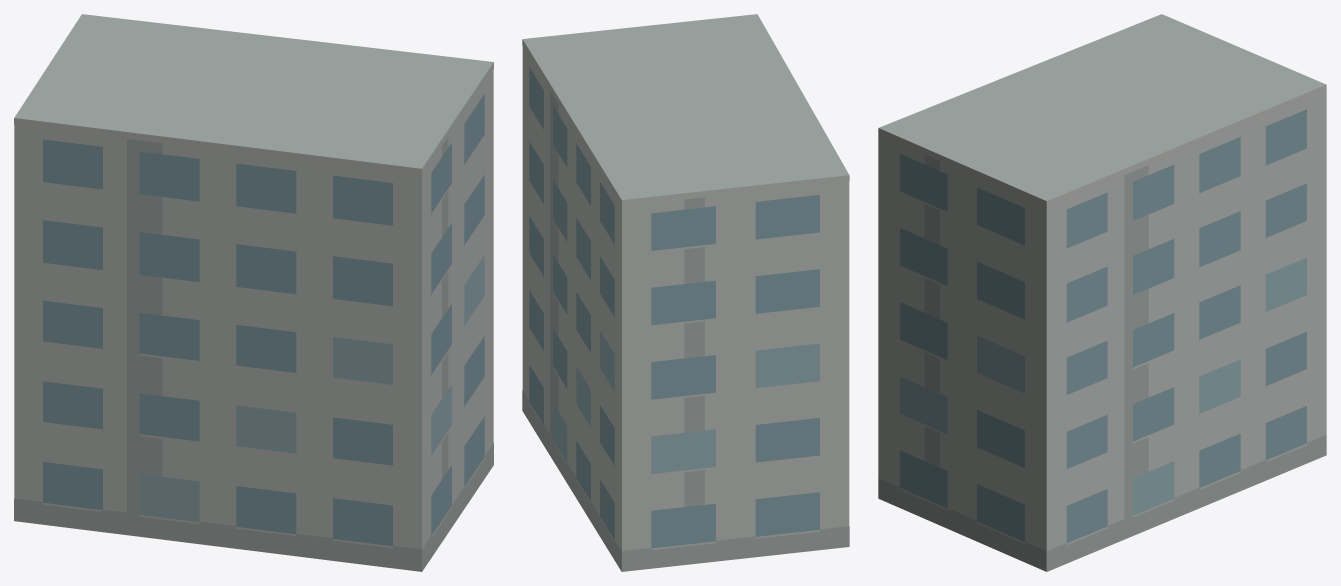
Rendered from survey-upis-32882485.glb.
3 renders of one model, left to right at view 1: azimuth 30°, elevation 25°; view 2: azimuth 150°, elevation 25°; view 3: azimuth 270°, elevation 25°, orthographic. The views are drawn at different scales.
Visible parts, largest first — view 1: survey-upis-32882485.tmp; view 2: survey-upis-32882485.tmp; view 3: survey-upis-32882485.tmp.
Boxes of the visible parts, x1,y1,x2,y2 form: survey-upis-32882485.tmp: (14,14,493,571); survey-upis-32882485.tmp: (522,14,849,571); survey-upis-32882485.tmp: (878,14,1326,571).
Bounding box in the file's own units: 15.6 × 14.4 × 15.78.
